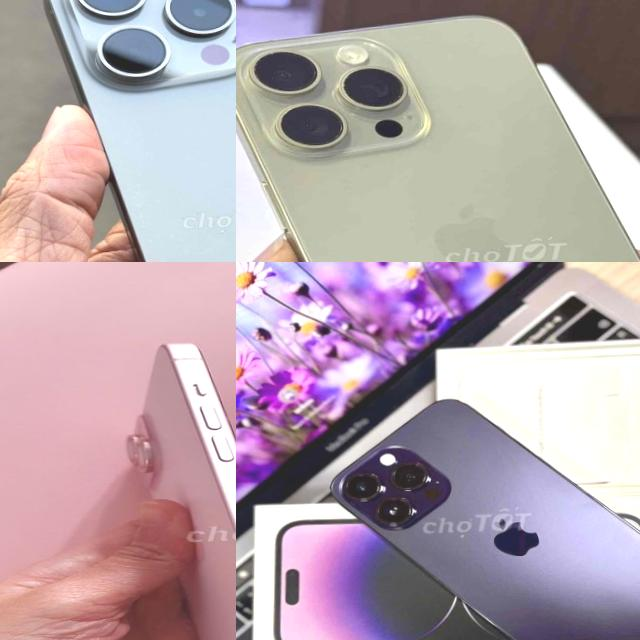gen_14: (322, 386, 640, 640)
gen_15: (236, 3, 640, 262), (13, 0, 236, 262), (102, 336, 236, 640)
